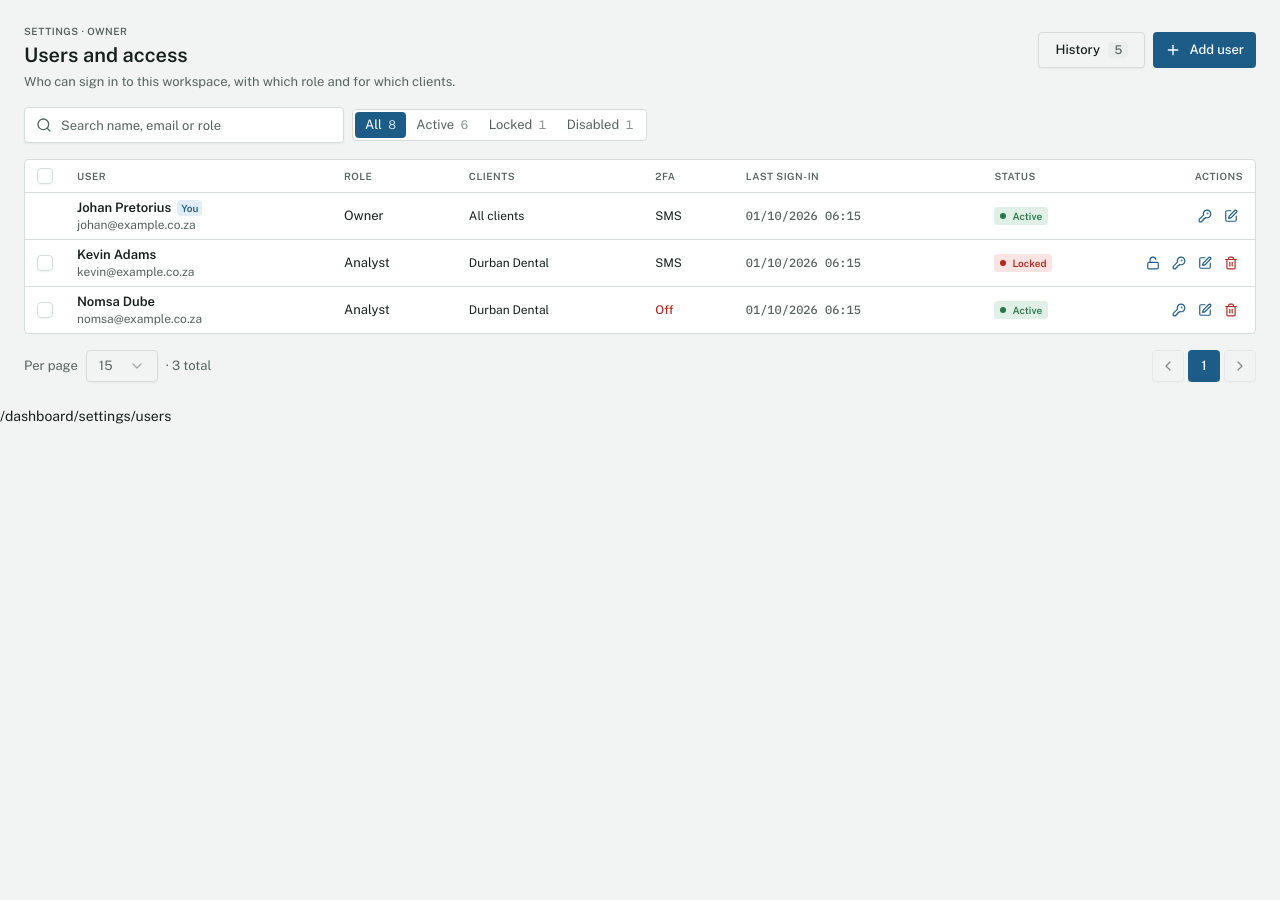
Test: UsersPage › asks for a cell number only when the PIN goes by SMS
Click the button "Add user" at (1205, 50), box [1153,32,1256,68]
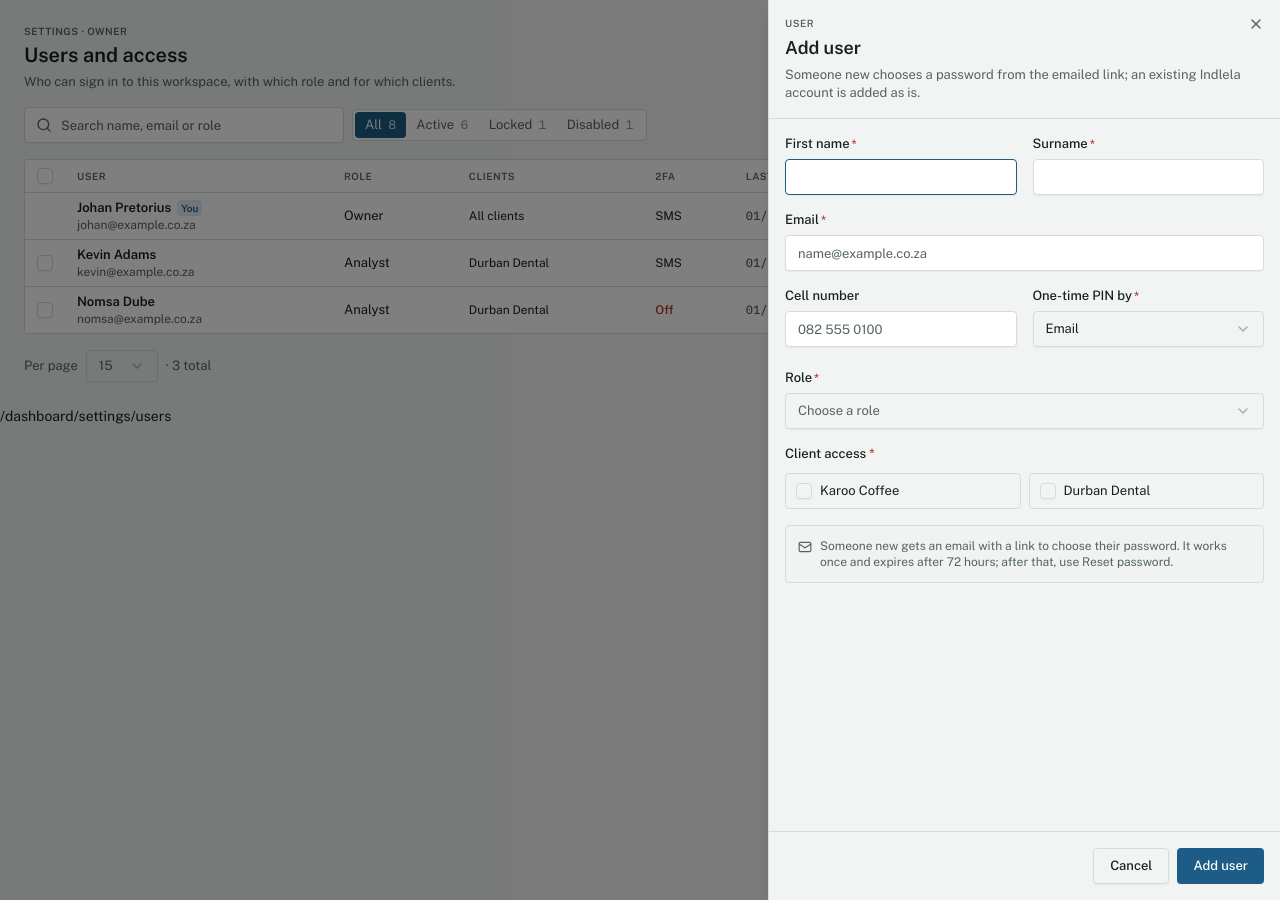
Click the dropdown named "One-time PIN by" at (1148, 329), box [1032,311,1264,347]
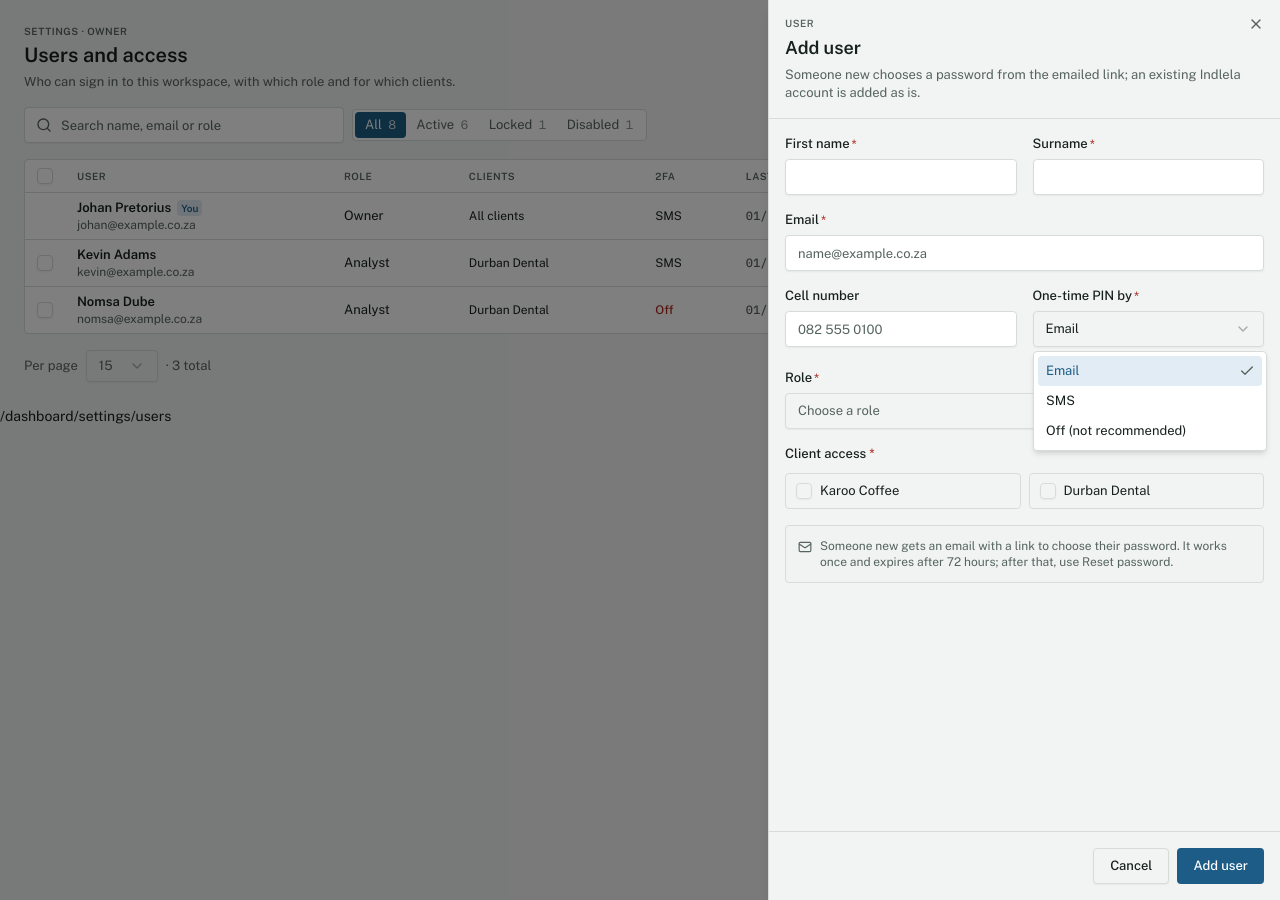
Click the option "SMS" at (1060, 400), box [1046,393,1075,408]
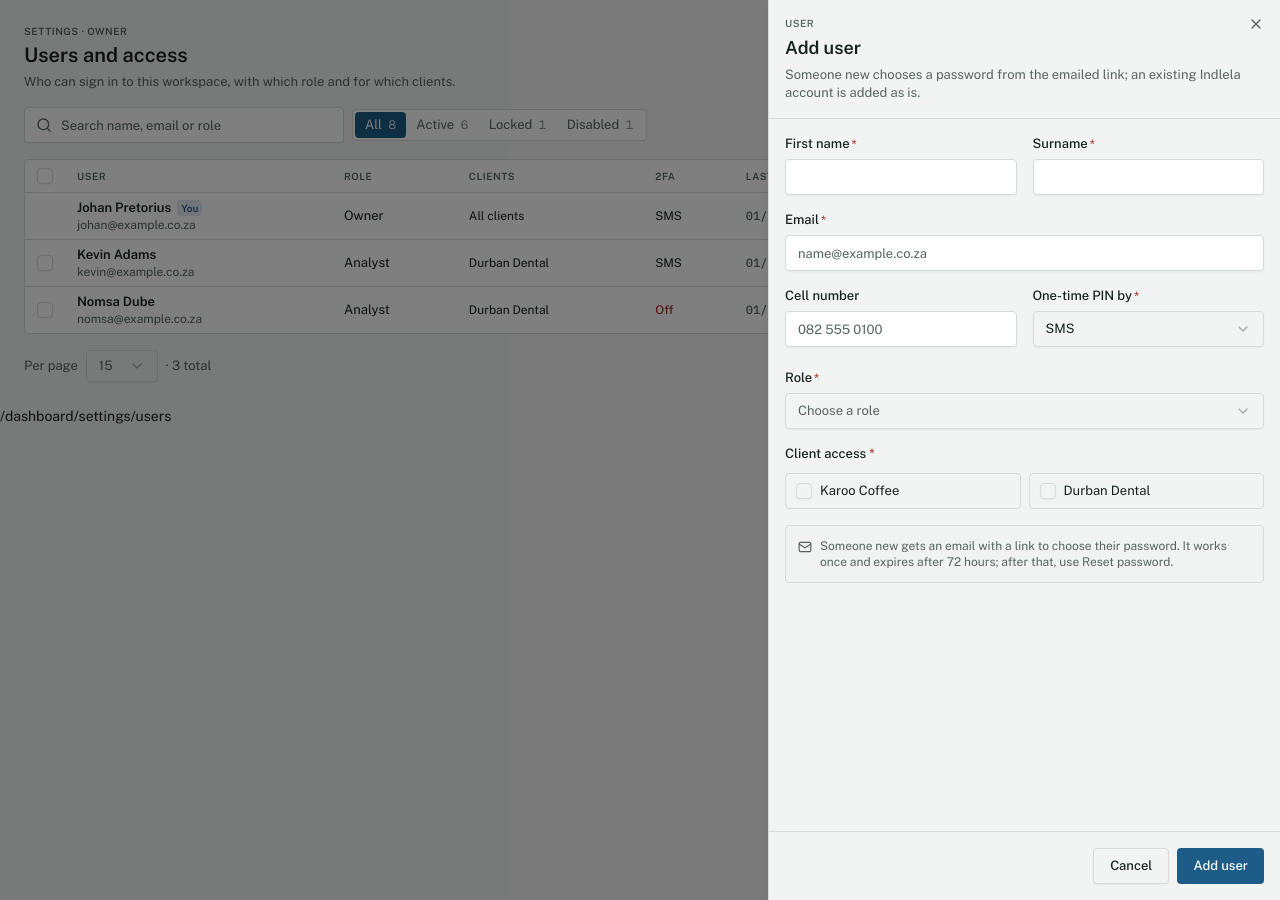
Click the button "Add user" at (1221, 866), box [1177,848,1264,884]
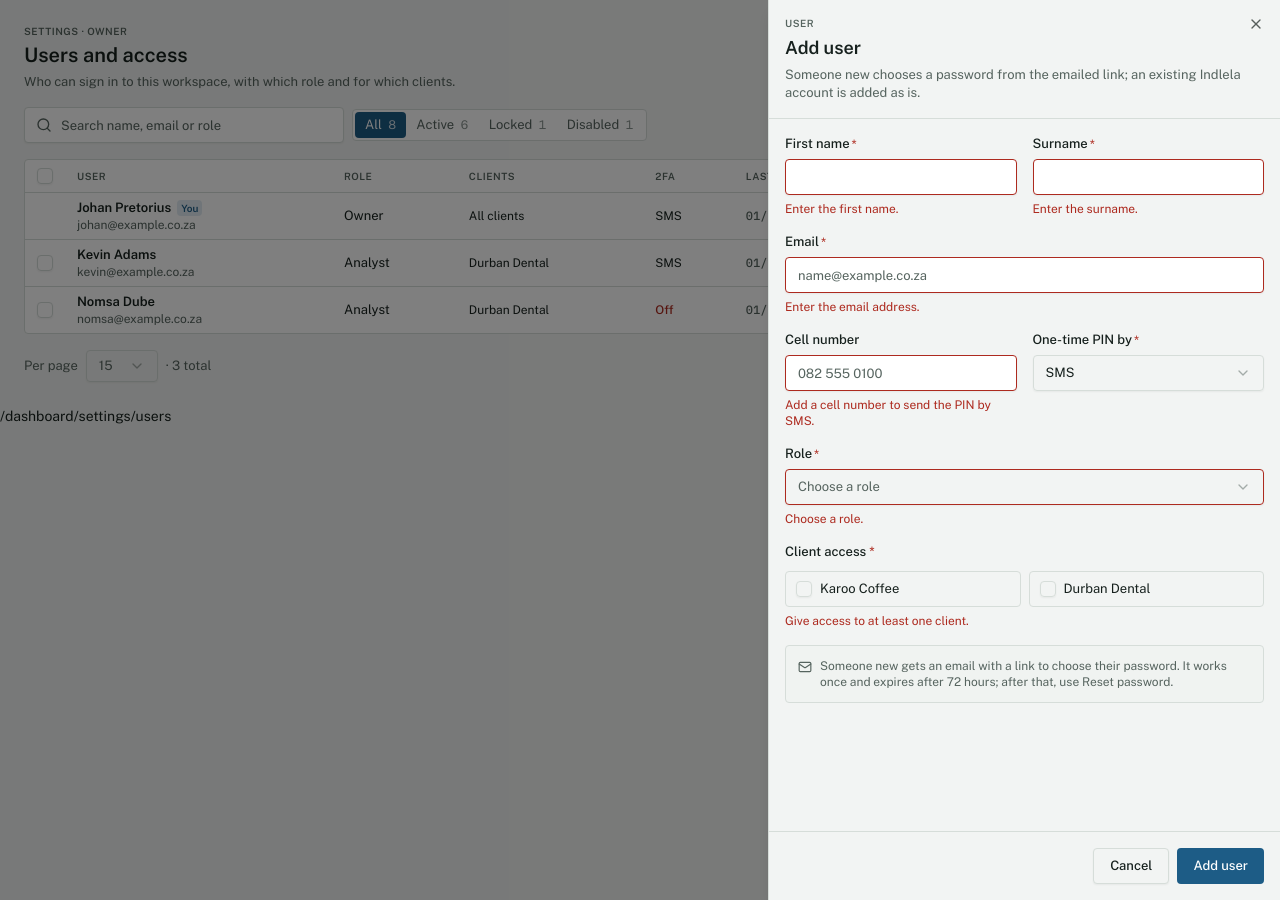
Expected: the text "Add a cell number to send the PIN by SMS." is shown, [785,397,1016,429]
